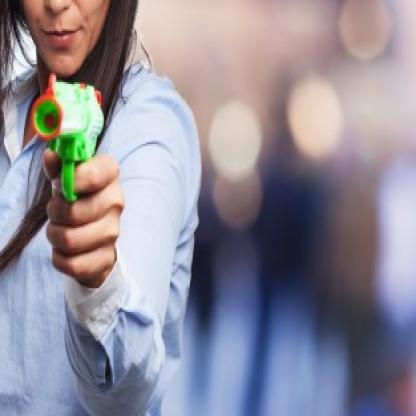gun: (32, 75, 109, 210)
